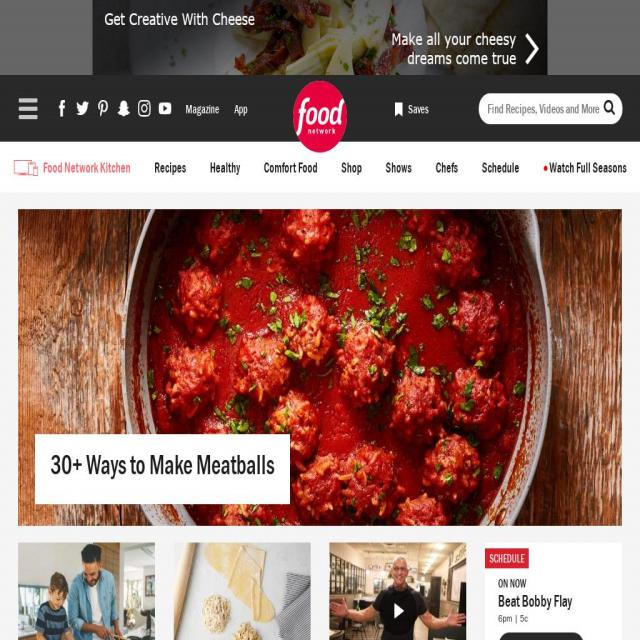follow-options: (55, 86, 175, 132)
navigation-blocks: (16, 205, 640, 640)
navigation-links: (17, 150, 635, 187)
options: (15, 86, 44, 126)
search: (479, 85, 626, 133)
